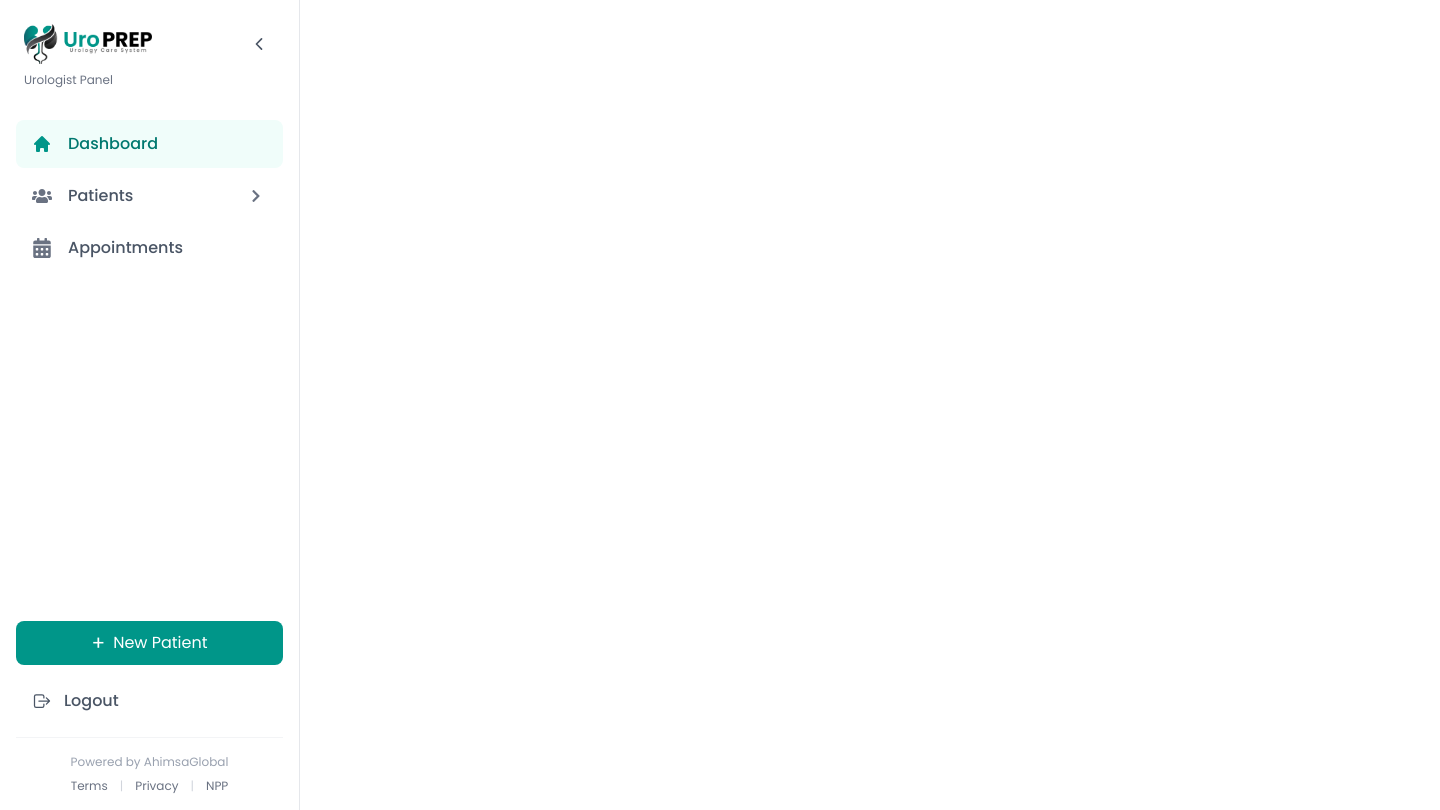
Scenario: UrologistSidebar › closes Terms modal when close button is clicked
Click the button "Terms" at (89, 786), box [71,778,108,794]
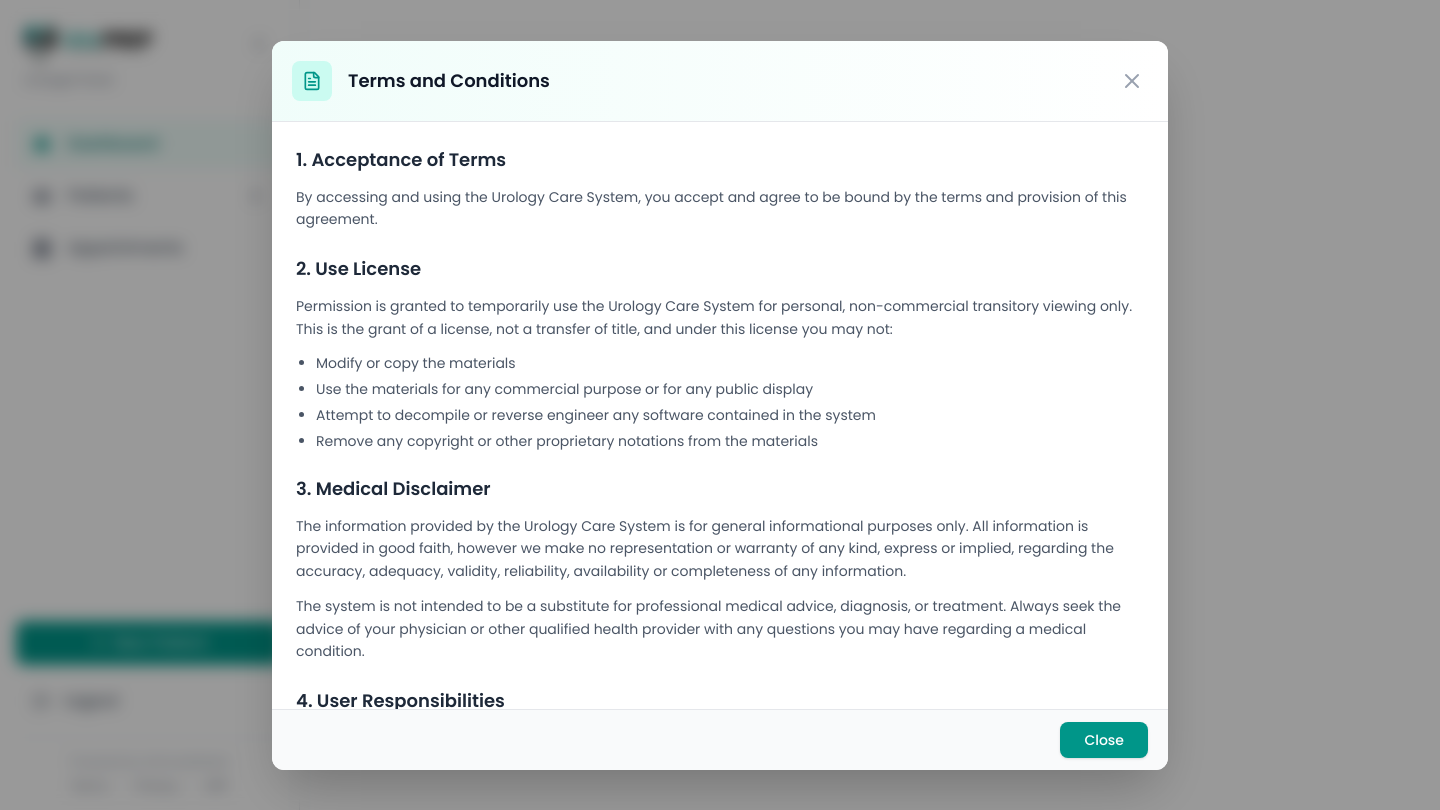
Result: the heading "Terms and Conditions" is shown at [348,66,550,94]
Close modal
Click the button named "Close modal" at (1132, 80), box [1116,64,1148,96]
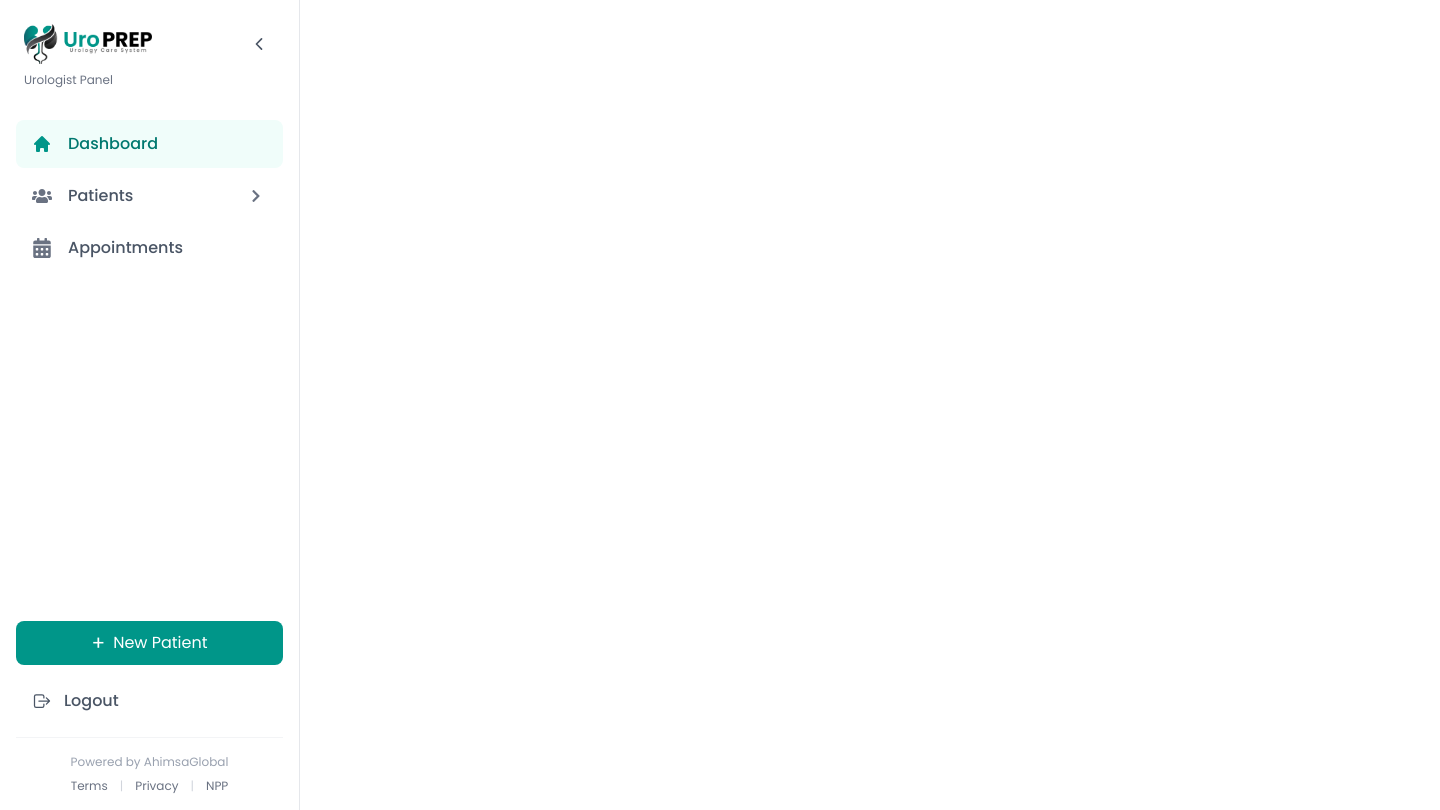
Result: the heading "Terms and Conditions" is gone
